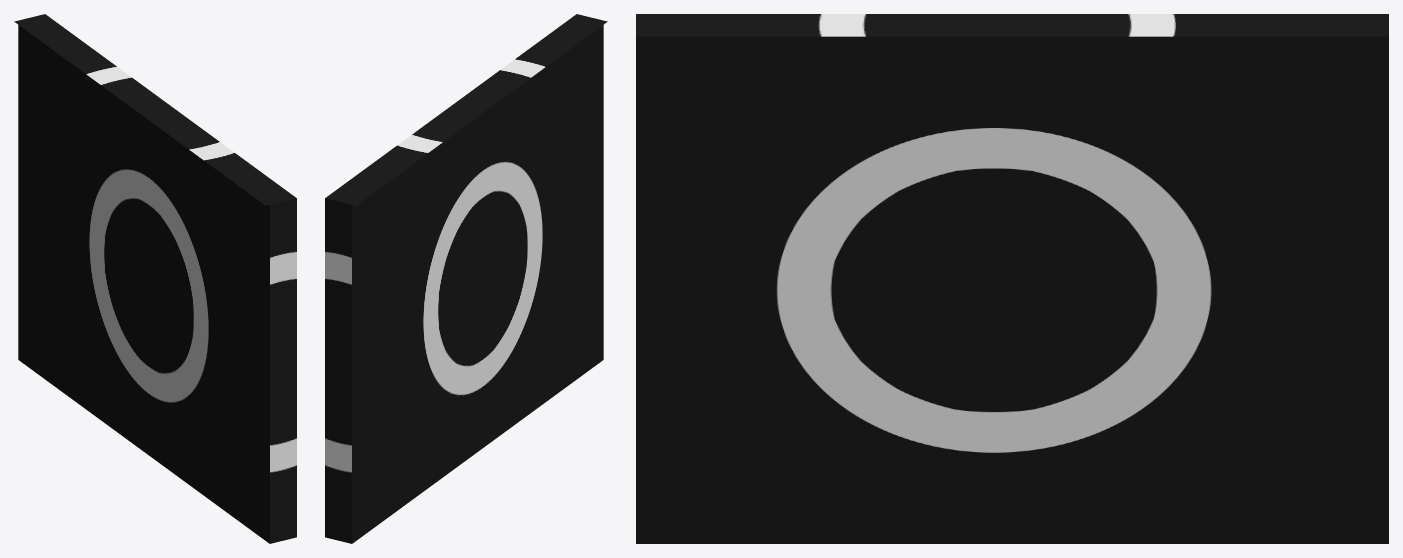
The model's file is Astro_Vac_Display.fbx.
3 views of the same model, side by side, from view 1: azimuth 30°, elevation 25°; view 2: azimuth 150°, elevation 25°; view 3: azimuth 270°, elevation 25° (orthographic). The views are drawn at different scales.
Parts seen in each view (by area): view 1: Display; view 2: Display; view 3: Display.
Boxes of the visible parts, x1,y1,x2,y2 form: Display: [14, 14, 296, 543]; Display: [325, 14, 607, 543]; Display: [636, 14, 1388, 543].
Size of the model in its own units: 0.6595 by 6.87 by 9.24.
